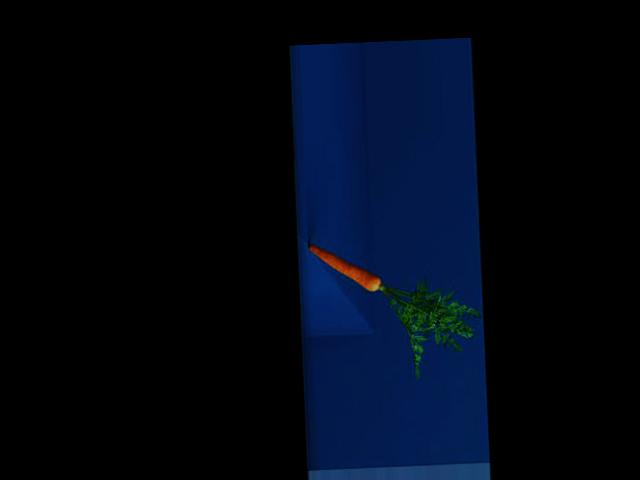carrot: (300, 234, 389, 313)
